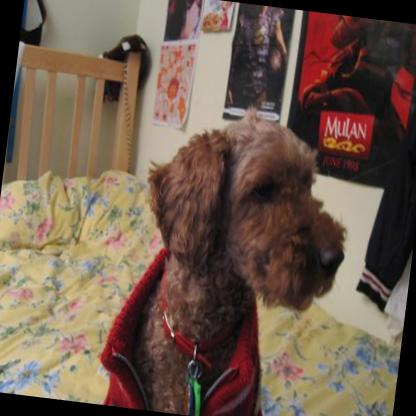miniature_poodle: (90, 87, 362, 416)
